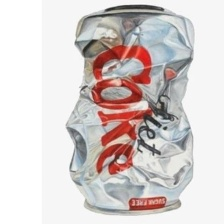can: (64, 3, 200, 218)
